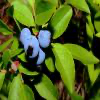Blueberry leaf: (50, 41, 76, 92), (63, 40, 100, 69), (47, 5, 74, 42), (8, 2, 36, 32), (31, 70, 58, 99), (33, 0, 58, 31), (8, 72, 35, 99), (0, 19, 19, 37)
